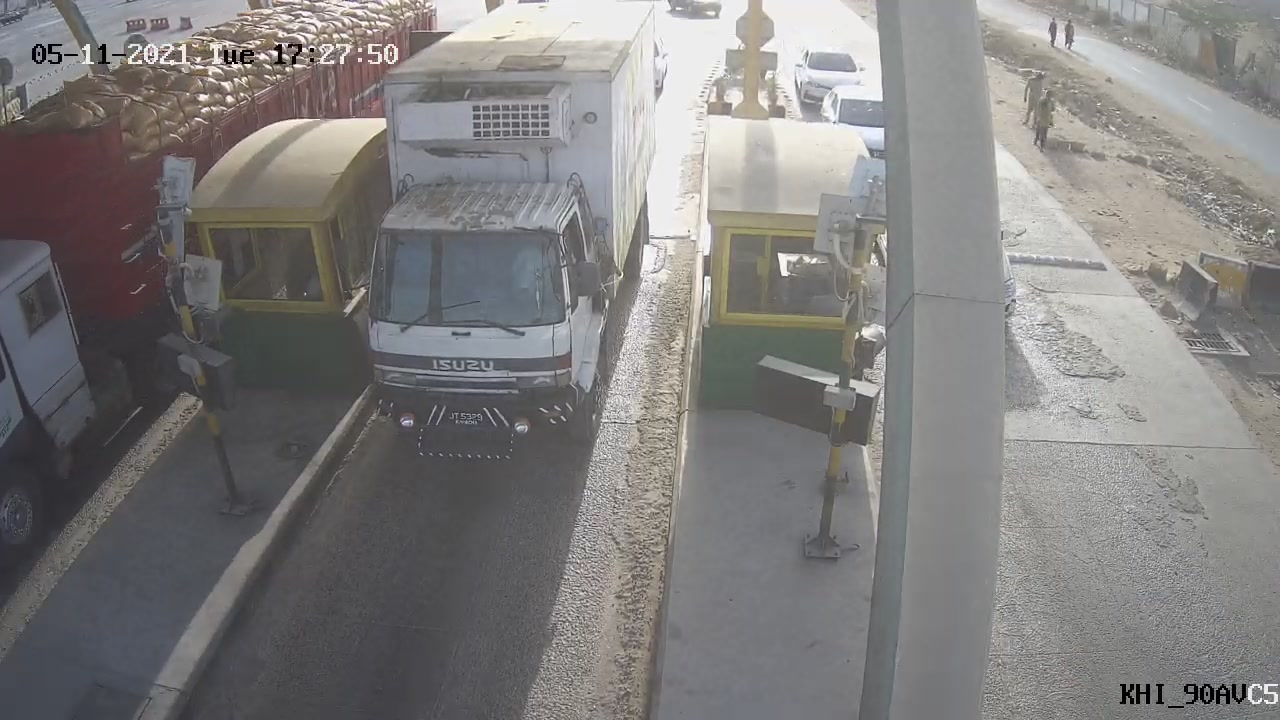F5: (318, 1, 682, 482)
